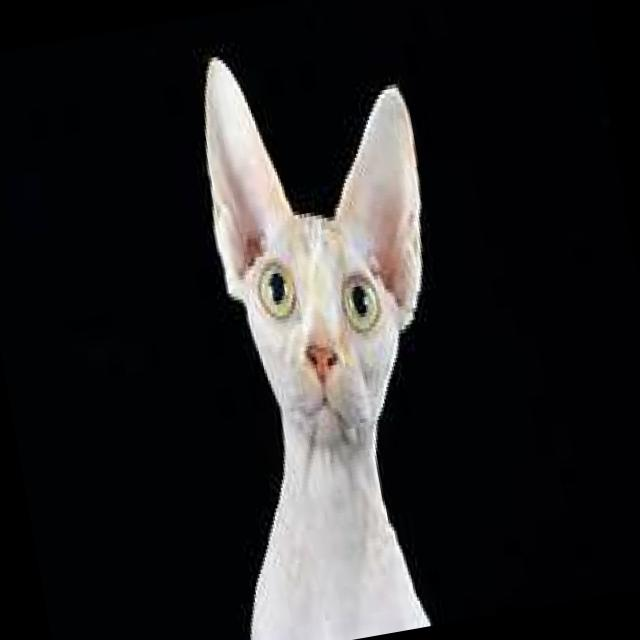animal: (143, 21, 497, 640)
